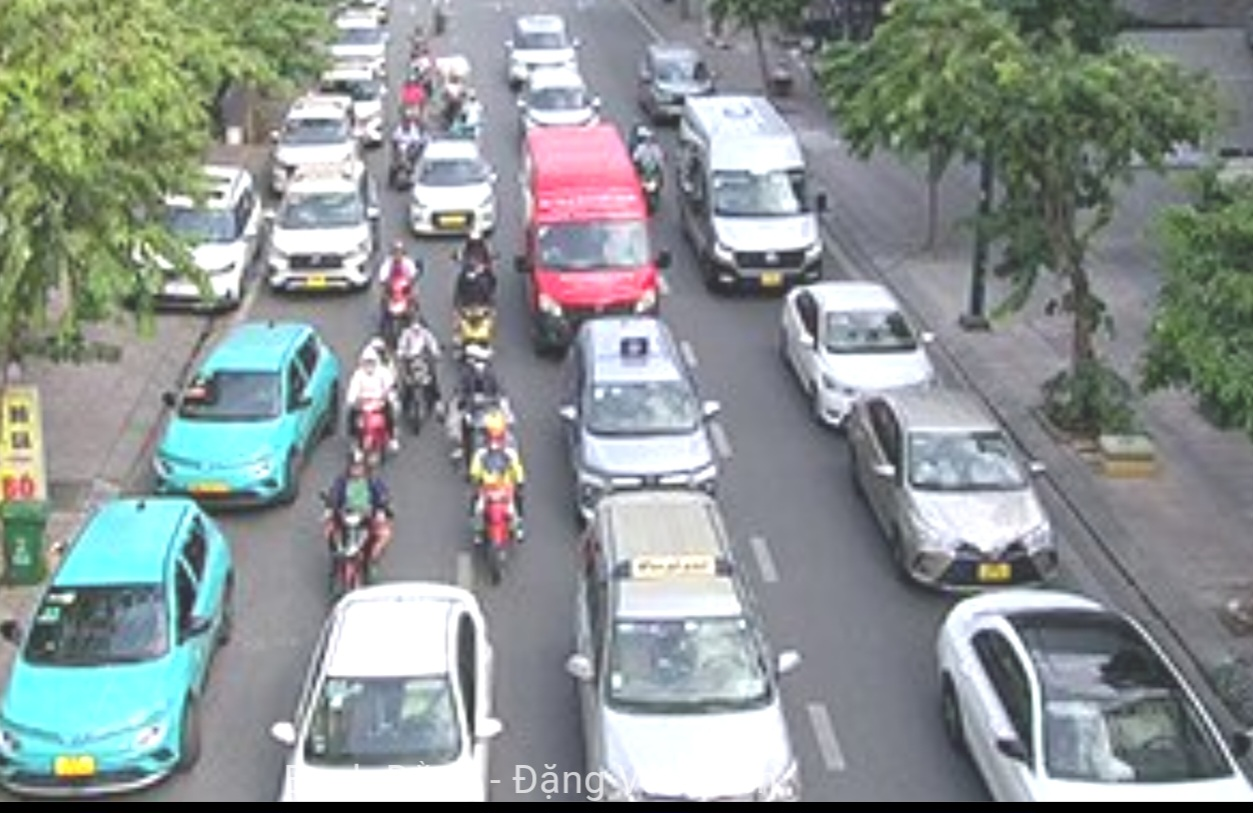car: (1, 500, 234, 803), (577, 510, 805, 813), (937, 595, 1249, 813), (295, 586, 492, 813), (849, 393, 1062, 593), (172, 316, 342, 516), (555, 321, 719, 501), (514, 130, 659, 311), (685, 105, 822, 295), (780, 290, 939, 415), (272, 163, 379, 291), (415, 135, 494, 246), (274, 96, 362, 168), (641, 41, 712, 113), (512, 72, 600, 129), (504, 14, 579, 74)
